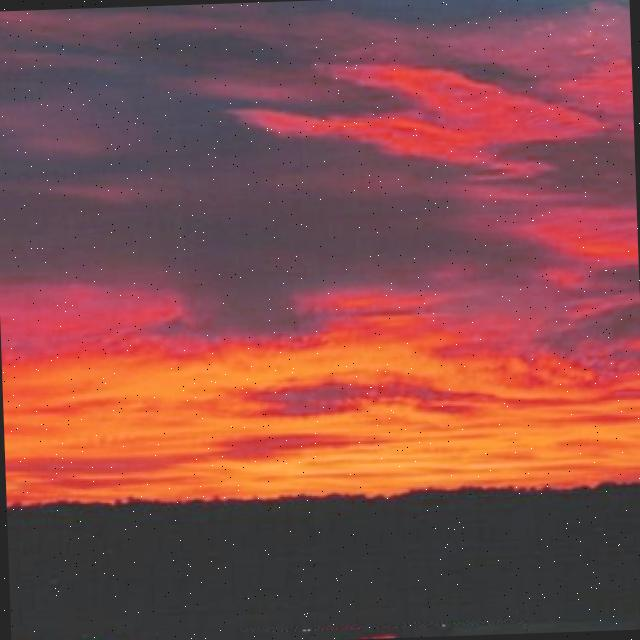As: (1, 9, 640, 475)
